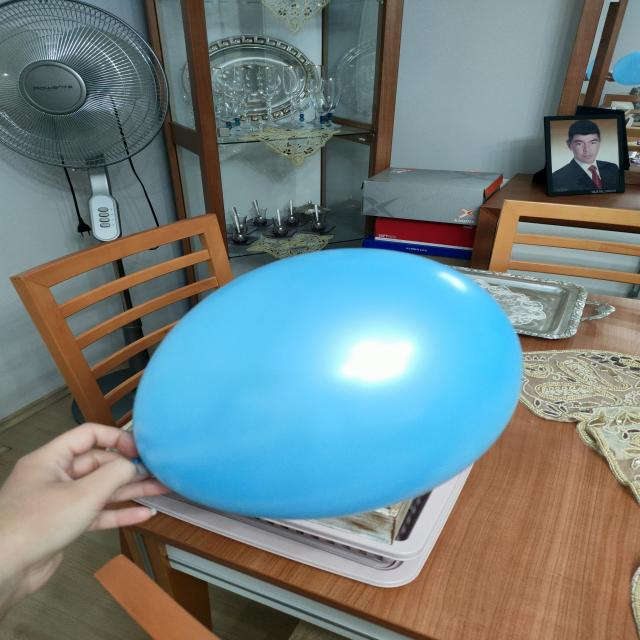blue: (133, 249, 519, 519)
